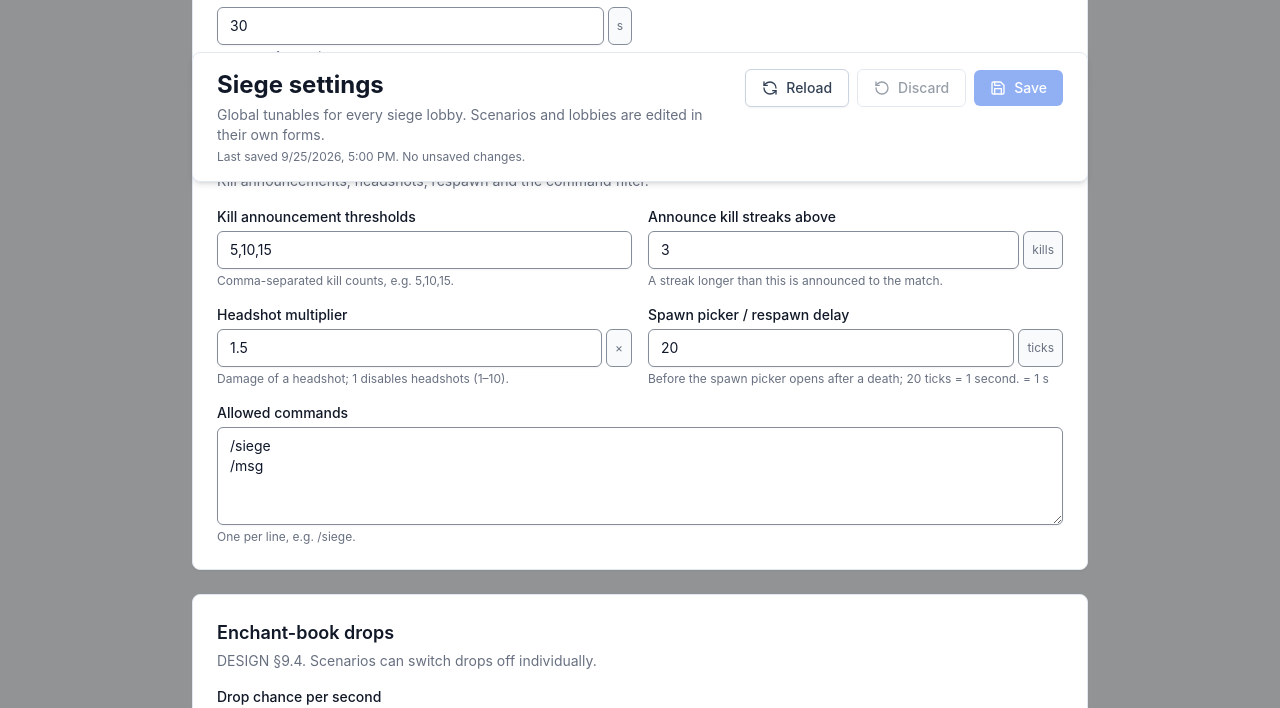
Test: SiegeConfigurationPage › sends only the changed values (partial PUT), parsing lists
(page scrolled)
Expected: the button "Save" is disabled, [974,70,1063,106]
Replace the text in the field showing "1.5" with "1" at (410, 348), box [217,329,602,367]
(page scrolled)
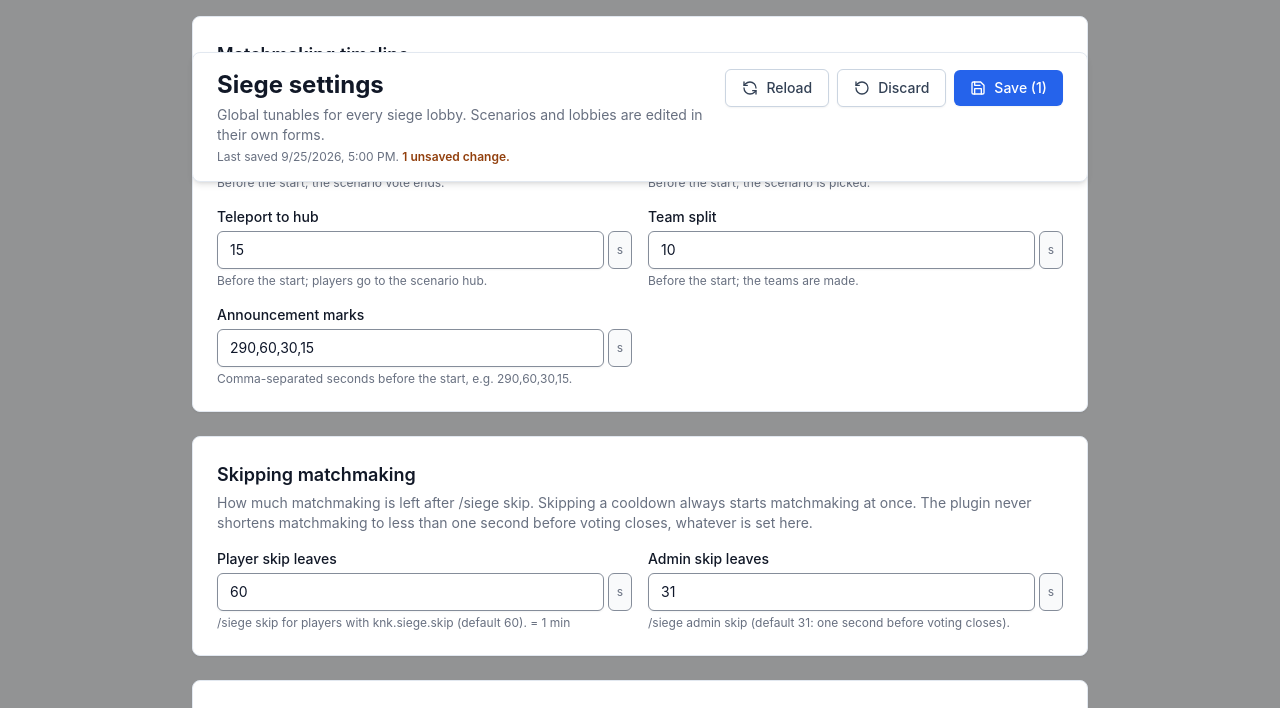
Replace the text in the field showing "290,60,30,15" with "120, 60" at (410, 348), box [217,329,604,367]
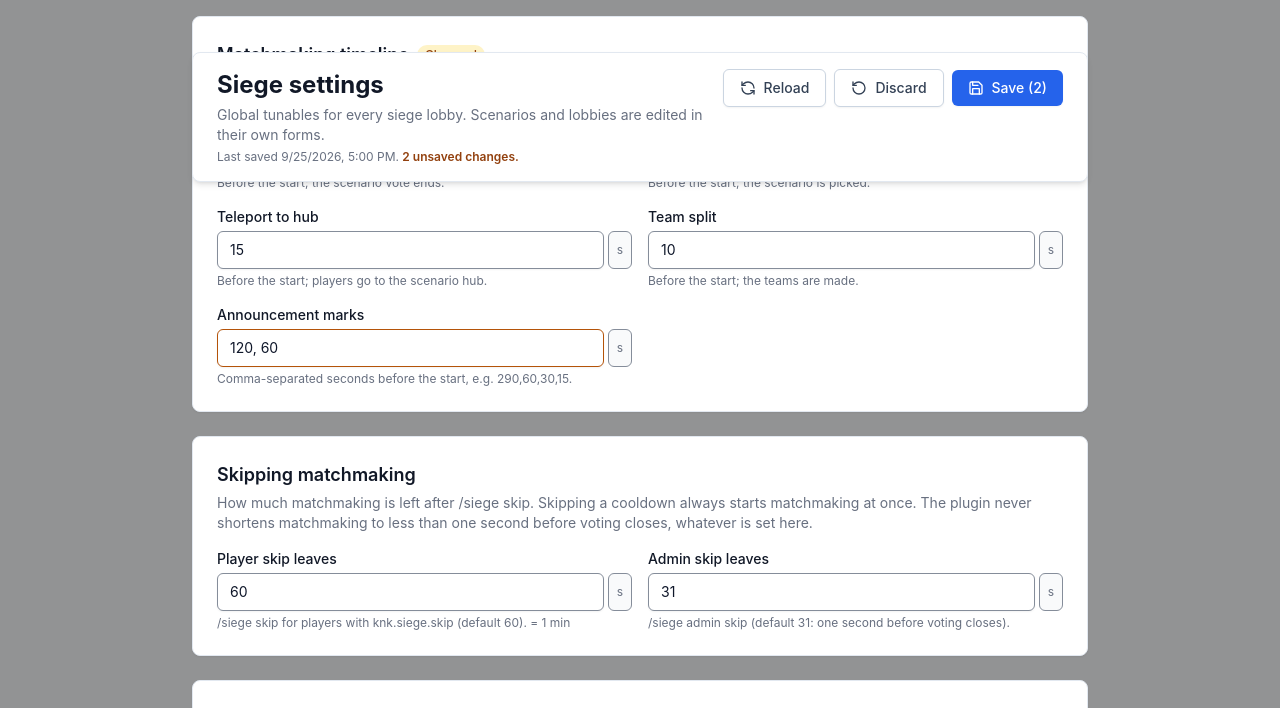
Click the button "Save (2)" at (1007, 88), box [952,70,1063,106]
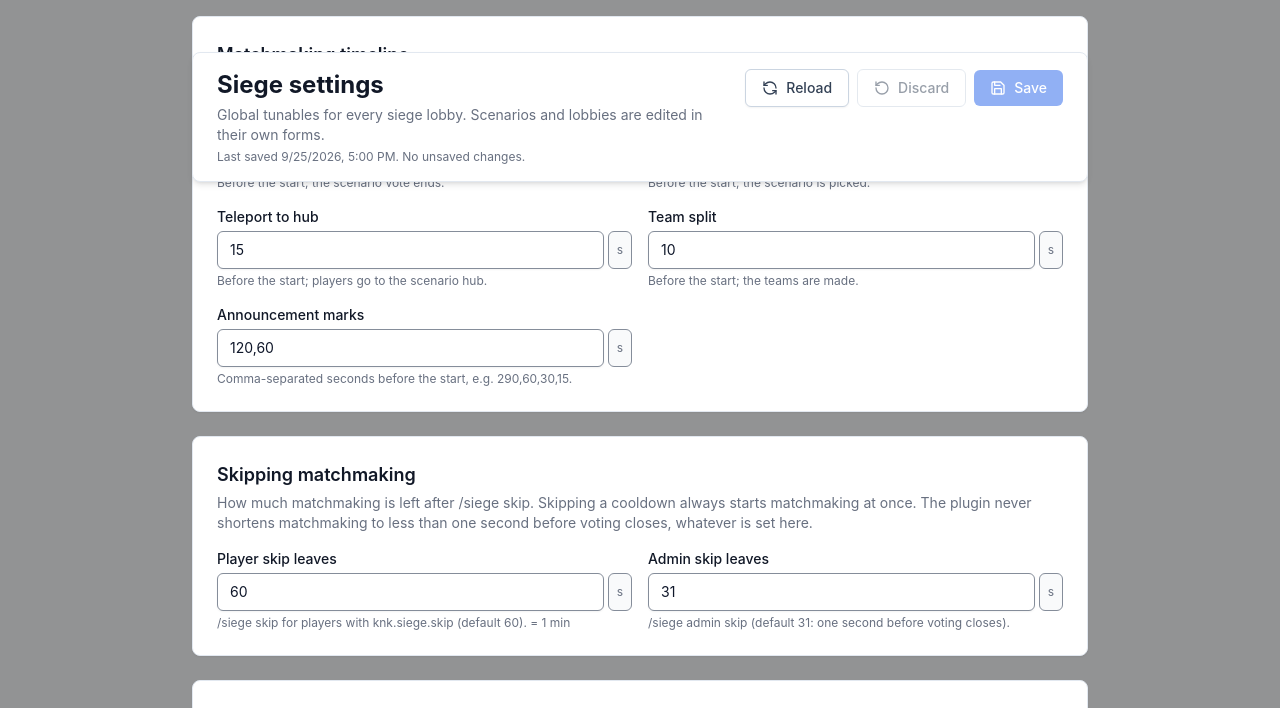
Expected: the text "No unsaved changes." is shown, [402,149,525,164]
